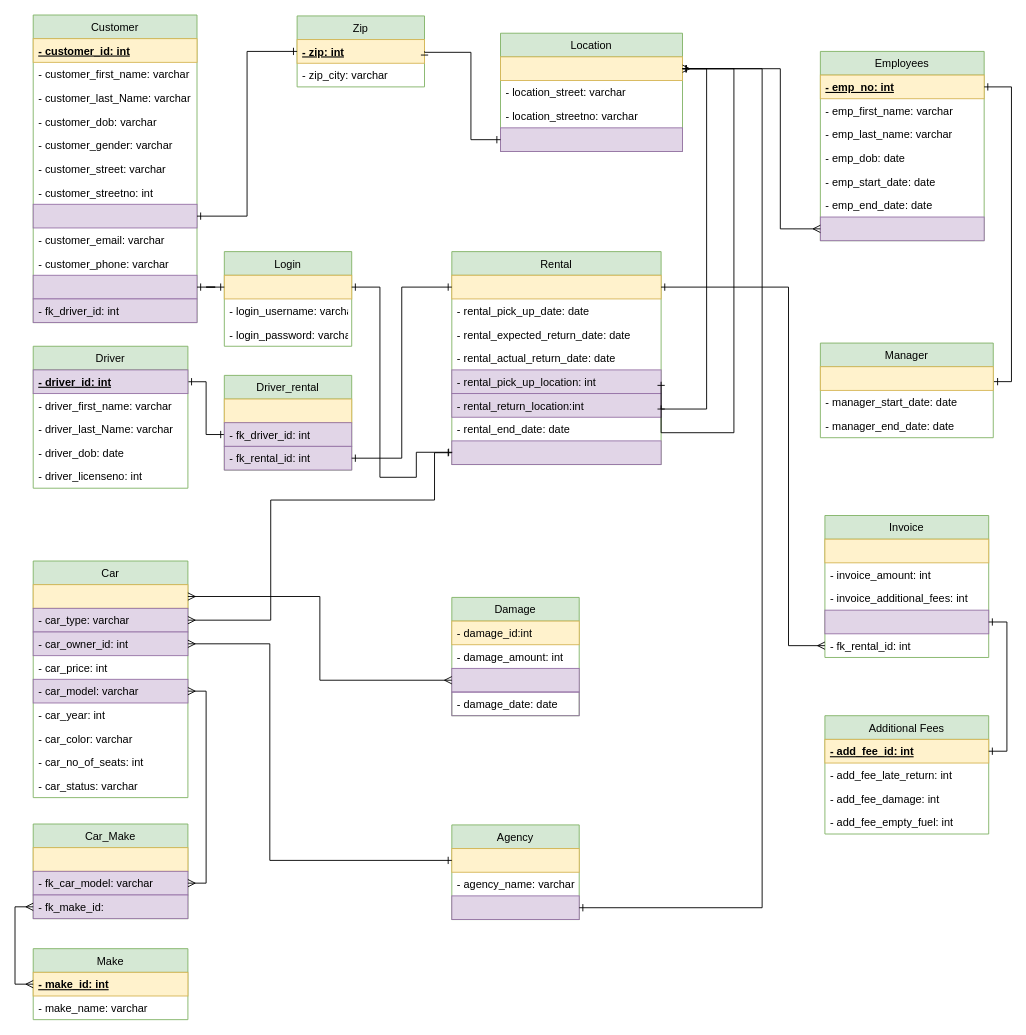
Some shapes in this 1026 by 1035 pixel diagram are drawn without their labels. The centre of each missing label's shape, as x and y in pixels:
- agency_id: int: (x=515, y=860)
- agency_location: int: (x=515, y=907)
- car_make_id: int: (x=110, y=859)
- car_plate: varchar: (x=110, y=596)
- fk_add_fee_id: int: (x=906, y=621)
- fk_car_plate: varchar: (x=515, y=679)
- fk_customer_zip: int: (x=114, y=215)
- fk_driver_rental_id: int: (x=287, y=410)
- fk_emp_no: (x=906, y=378)
- fk_location_id: int: (x=901, y=228)
- fk_login_id: int: (x=114, y=286)
- invoice_id: int: (x=906, y=550)
- location_id: int: (x=591, y=68)
- location_zip: int: (x=591, y=139)
- login_id: int: (x=287, y=286)
- rental_id: int: (x=556, y=286)
- rental_type: varchar: (x=556, y=452)
